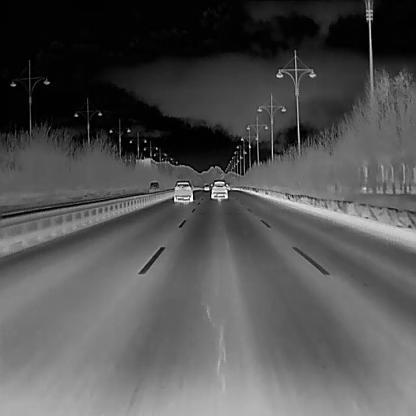car: (173, 179, 193, 202), (210, 179, 227, 199), (148, 180, 159, 192), (203, 181, 208, 189), (225, 183, 231, 189)
